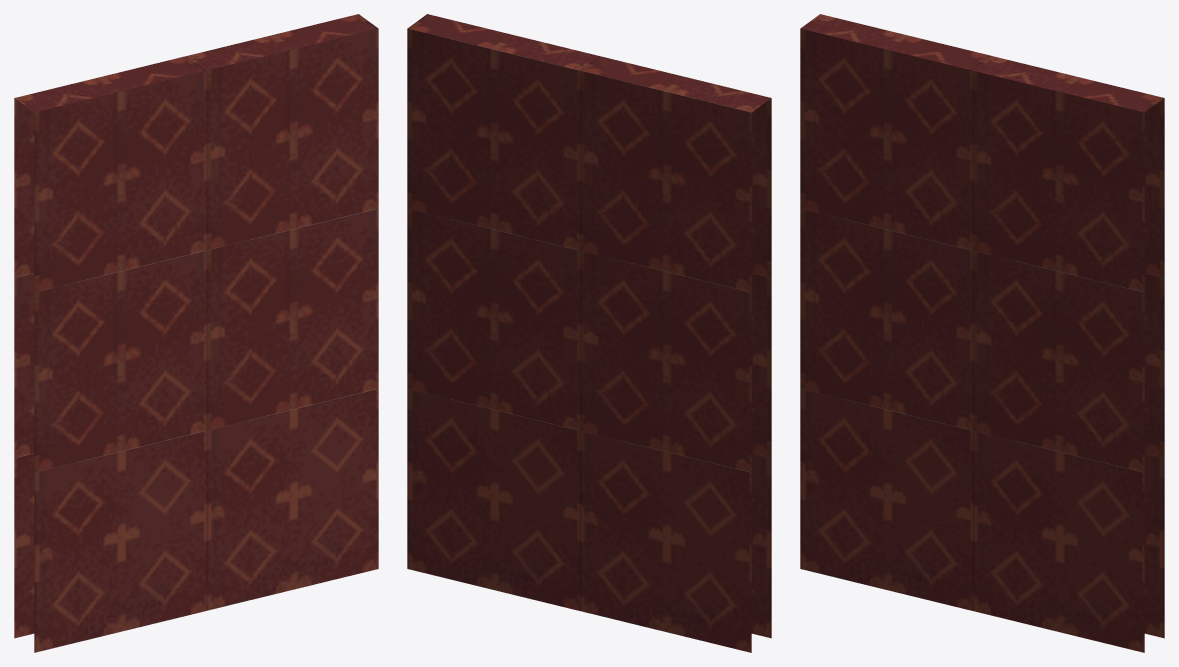
The model's file is SM_wall_service.fbx.
3 views of the same model, side by side, from view 1: azimuth 30°, elevation 25°; view 2: azimuth 150°, elevation 25°; view 3: azimuth 330°, elevation 25° (orthographic).
Parts seen in each view (by area): view 1: wall_service; view 2: wall_service; view 3: wall_service.
Boxes of the visible parts, x1,y1,x2,y2 form: wall_service: (14, 14, 378, 652); wall_service: (407, 14, 771, 652); wall_service: (800, 14, 1164, 652).
Size of the model in its own units: 2 by 3 by 0.2.
